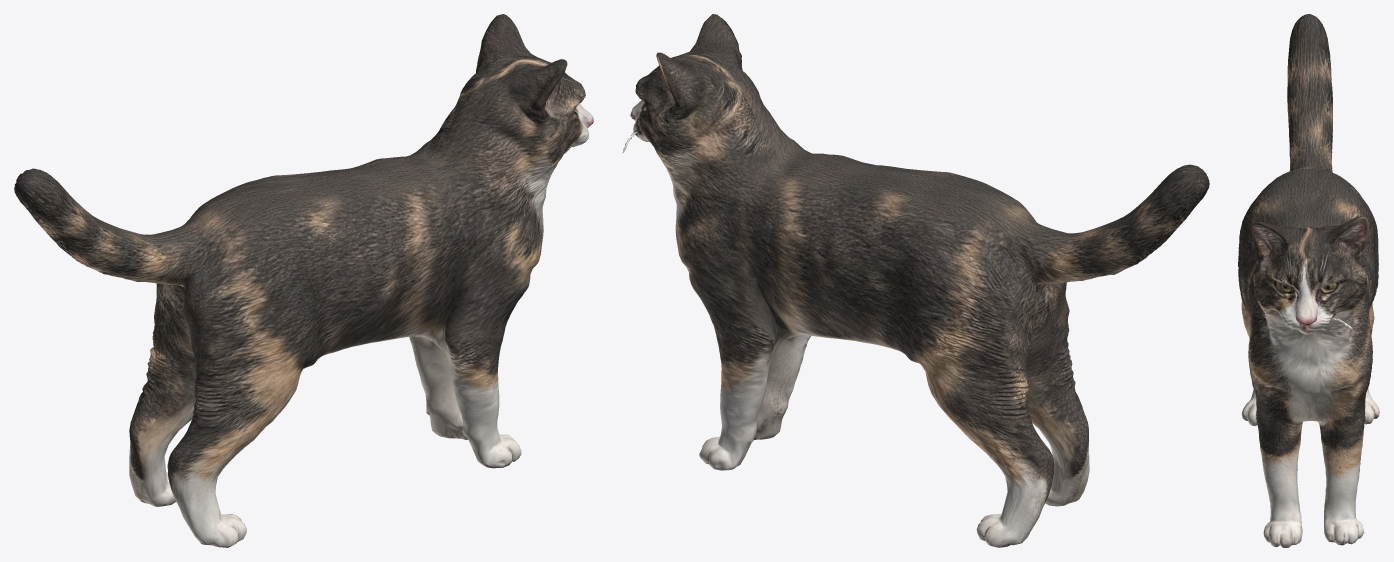
The model's file is SINSMILE.glb.
3 views of the same model, side by side, from view 1: azimuth 30°, elevation 25°; view 2: azimuth 150°, elevation 25°; view 3: azimuth 270°, elevation 25° (orthographic). The views are drawn at different scales.
Parts seen in each view (by area): view 1: tripo_node_9ca7d3c8-9e6f-4476-9eaa-e5f80f3c2b74; view 2: tripo_node_9ca7d3c8-9e6f-4476-9eaa-e5f80f3c2b74; view 3: tripo_node_9ca7d3c8-9e6f-4476-9eaa-e5f80f3c2b74.
Part boxes in pixels (x1,y1,x2,y2): tripo_node_9ca7d3c8-9e6f-4476-9eaa-e5f80f3c2b74: (14,14,593,547); tripo_node_9ca7d3c8-9e6f-4476-9eaa-e5f80f3c2b74: (622,14,1209,547); tripo_node_9ca7d3c8-9e6f-4476-9eaa-e5f80f3c2b74: (1238,14,1379,547).
Bounding box in the file's own units: 1.49 × 0.9987 × 0.37.
Materials: 1 (1 with a texture image).
